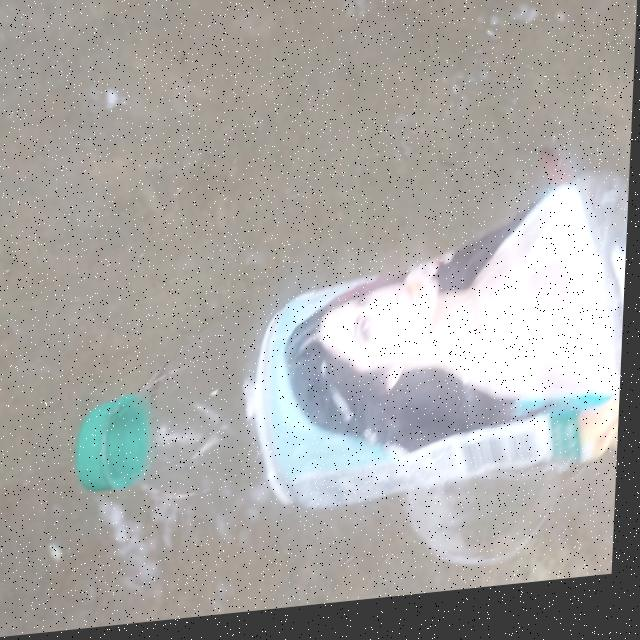waterbottle: (42, 178, 631, 584)
